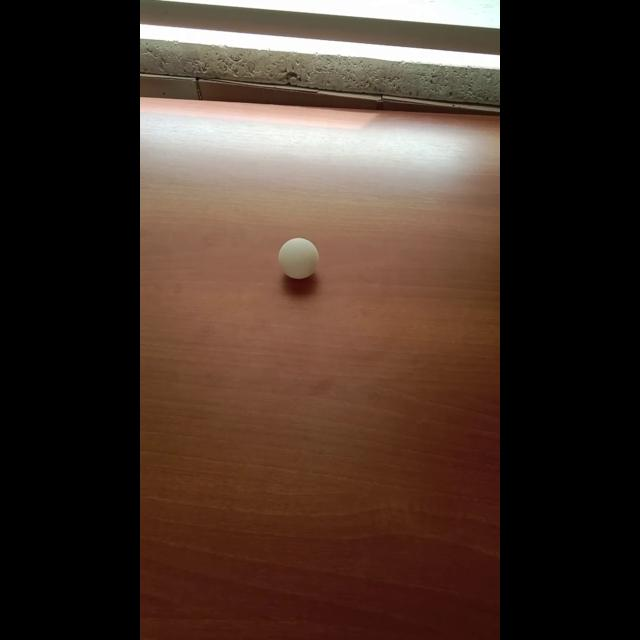white ball: (277, 237, 319, 280)
